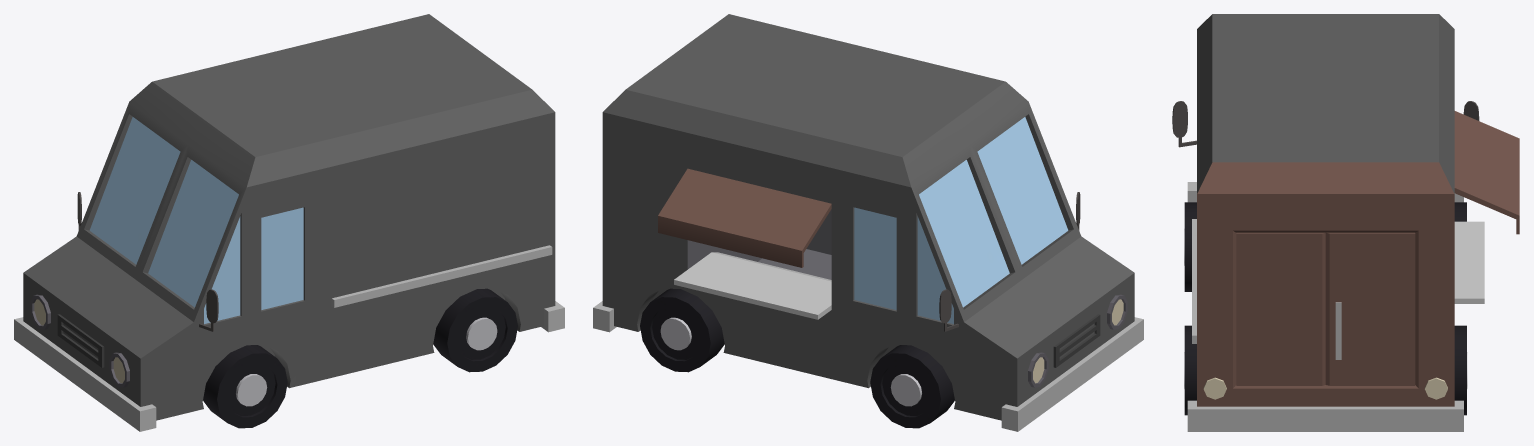
File: foodtruck01.fbx
3 views of the same model, side by side, from view 1: azimuth 30°, elevation 25°; view 2: azimuth 150°, elevation 25°; view 3: azimuth 270°, elevation 25° (orthographic). The views are drawn at different scales.
Parts seen in each view (by area): view 1: fbx_foodtruck01; view 2: fbx_foodtruck01; view 3: fbx_foodtruck01.
Boxes of the visible parts, x1,y1,x2,y2 form: fbx_foodtruck01: (14, 14, 564, 431); fbx_foodtruck01: (593, 14, 1143, 431); fbx_foodtruck01: (1172, 14, 1519, 431).
Bounding box in the file's own units: 5.78 × 3.35 × 3.73.
Materials: 1 (1 with a texture image).
